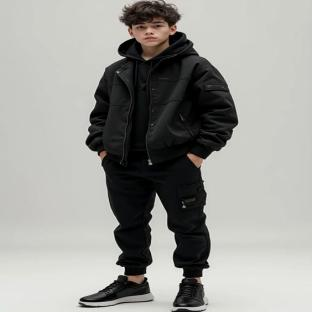Human: (79, 0, 237, 312)
